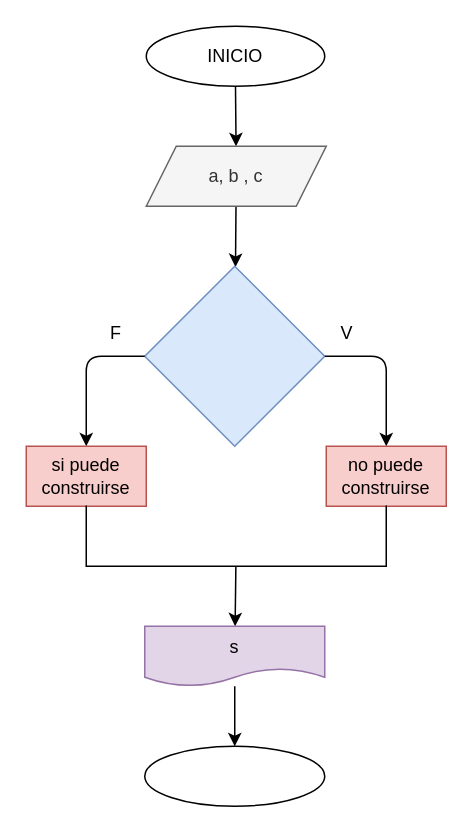
The diagram is 473 pixels wide and 833 high, and some of its shapes have lost their labels. Here are the shapes that lost their labels. From the top down, the centre of each, then its label:
the point at 234,355: a + b < c or a + c < b or b + c < a
the point at 234,775: FIN
